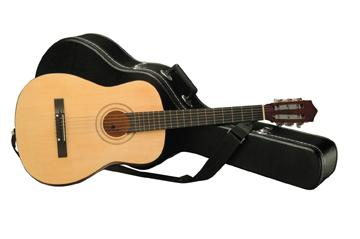guitar: (14, 72, 319, 187)
